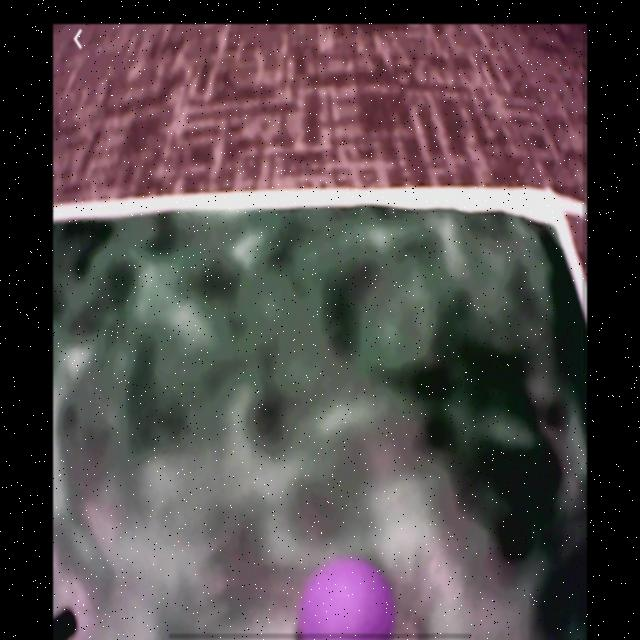ball: (297, 556, 398, 639)
